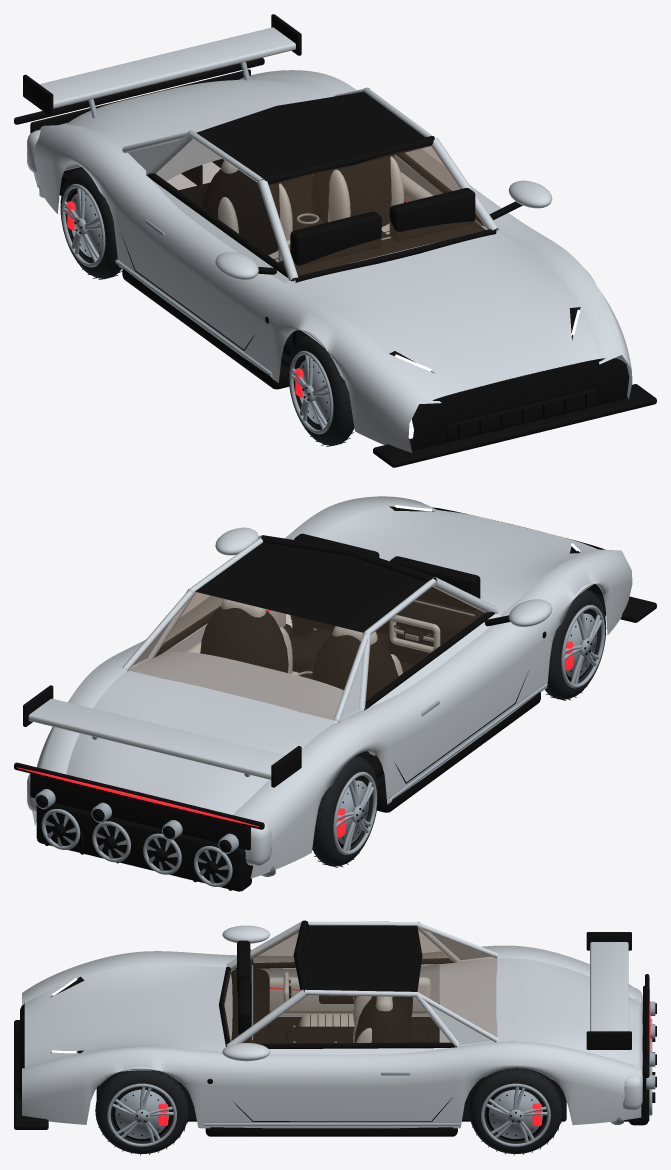
Rendered from DR_Asterion_LOD0.glb.
3 renders of one model, top to bottom at view 1: azimuth 30°, elevation 25°; view 2: azimuth 150°, elevation 25°; view 3: azimuth 270°, elevation 25°, orthographic. The views are drawn at different scales.
Visible parts, largest first — view 1: DR_Asterion_Roadster__DR_PearlAlloy, DR_Asterion_Roadster__DR_CarbonComposite, DR_Asterion_Roadster__DR_CopperSmokedGlass, AeroWing__DR_PearlAlloy, DR_Asterion_Roadster__DR_IvoryMicrofiber, Wheel_FL__DR_PerformanceRubber, Wheel_RL__DR_BrushedTitanium, Wheel_FL__DR_BrushedTitanium, Wheel_RL__DR_PerformanceRubber, AeroWing__DR_CarbonComposite, DR_Asterion_Roadster__DR_BrushedTitanium; view 2: DR_Asterion_Roadster__DR_PearlAlloy, DR_Asterion_Roadster__DR_CarbonComposite, DR_Asterion_Roadster__DR_CopperSmokedGlass, AeroWing__DR_PearlAlloy, DR_Asterion_Roadster__DR_BrushedTitanium, Wheel_RL__DR_PerformanceRubber, Wheel_RL__DR_BrushedTitanium, Wheel_FL__DR_BrushedTitanium, Wheel_FL__DR_PerformanceRubber, DR_Asterion_Roadster__DR_IvoryMicrofiber, AeroWing__DR_CarbonComposite, SteeringWheel__DR_IvoryMicrofiber (+1 smaller); view 3: DR_Asterion_Roadster__DR_PearlAlloy, DR_Asterion_Roadster__DR_CarbonComposite, DR_Asterion_Roadster__DR_CopperSmokedGlass, AeroWing__DR_PearlAlloy, Wheel_RR__DR_PerformanceRubber, Wheel_FR__DR_PerformanceRubber, DR_Asterion_Roadster__DR_IvoryMicrofiber, Wheel_RR__DR_BrushedTitanium, Wheel_FR__DR_BrushedTitanium, DR_Asterion_Roadster__DR_BrushedTitanium, AeroWing__DR_CarbonComposite, Wheel_RR__DR_CarbonComposite (+1 smaller).
Boxes of the visible parts, left/top/right/bottom form: DR_Asterion_Roadster__DR_PearlAlloy: left=27, top=70, right=632, bottom=452; DR_Asterion_Roadster__DR_CarbonComposite: left=14, top=57, right=656, bottom=467; DR_Asterion_Roadster__DR_CopperSmokedGlass: left=155, top=138, right=487, bottom=279; AeroWing__DR_PearlAlloy: left=40, top=27, right=295, bottom=108; DR_Asterion_Roadster__DR_IvoryMicrofiber: left=218, top=156, right=433, bottom=261; Wheel_FL__DR_PerformanceRubber: left=288, top=335, right=354, bottom=445; Wheel_RL__DR_BrushedTitanium: left=61, top=184, right=105, bottom=267; Wheel_FL__DR_BrushedTitanium: left=289, top=351, right=333, bottom=434; Wheel_RL__DR_PerformanceRubber: left=60, top=167, right=121, bottom=278; AeroWing__DR_CarbonComposite: left=23, top=14, right=301, bottom=116; DR_Asterion_Roadster__DR_BrushedTitanium: left=39, top=185, right=390, bottom=376; DR_Asterion_Roadster__DR_PearlAlloy: left=27, top=496, right=632, bottom=878; DR_Asterion_Roadster__DR_CarbonComposite: left=14, top=506, right=656, bottom=891; DR_Asterion_Roadster__DR_CopperSmokedGlass: left=125, top=583, right=485, bottom=720; AeroWing__DR_PearlAlloy: left=28, top=698, right=284, bottom=779; DR_Asterion_Roadster__DR_BrushedTitanium: left=35, top=600, right=547, bottom=886; Wheel_RL__DR_PerformanceRubber: left=312, top=755, right=378, bottom=866; Wheel_RL__DR_BrushedTitanium: left=333, top=771, right=377, bottom=854; Wheel_FL__DR_BrushedTitanium: left=561, top=605, right=605, bottom=688; Wheel_FL__DR_PerformanceRubber: left=545, top=589, right=606, bottom=699; DR_Asterion_Roadster__DR_IvoryMicrofiber: left=185, top=599, right=402, bottom=755; AeroWing__DR_CarbonComposite: left=23, top=685, right=301, bottom=787; SteeringWheel__DR_IvoryMicrofiber: left=389, top=615, right=440, bottom=652; DR_Asterion_Roadster__DR_PearlAlloy: left=22, top=920, right=642, bottom=1128; DR_Asterion_Roadster__DR_CarbonComposite: left=14, top=920, right=656, bottom=1136; DR_Asterion_Roadster__DR_CopperSmokedGlass: left=224, top=926, right=496, bottom=1043; AeroWing__DR_PearlAlloy: left=590, top=942, right=628, bottom=1031; Wheel_RR__DR_PerformanceRubber: left=469, top=1068, right=562, bottom=1153; Wheel_FR__DR_PerformanceRubber: left=95, top=1070, right=188, bottom=1153; DR_Asterion_Roadster__DR_IvoryMicrofiber: left=269, top=977, right=430, bottom=1042; Wheel_RR__DR_BrushedTitanium: left=481, top=1083, right=550, bottom=1146; Wheel_FR__DR_BrushedTitanium: left=107, top=1083, right=176, bottom=1146; DR_Asterion_Roadster__DR_BrushedTitanium: left=205, top=965, right=655, bottom=1125; AeroWing__DR_CarbonComposite: left=586, top=932, right=631, bottom=1049; Wheel_RR__DR_CarbonComposite: left=469, top=1068, right=562, bottom=1155.
Bounding box in the file's own units: 2.31 × 1.26 × 4.82.
9 materials, 1 textured.
